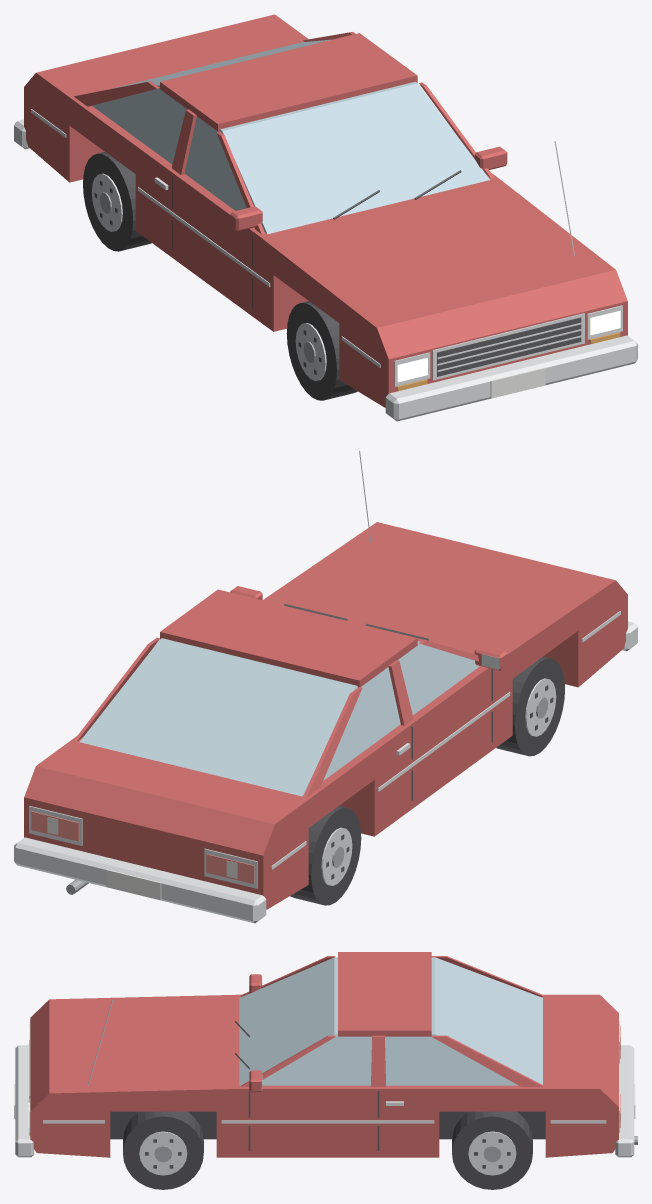
File: car_coupe_r.glb
3 renders of one model, top to bottom at view 1: azimuth 30°, elevation 25°; view 2: azimuth 150°, elevation 25°; view 3: azimuth 270°, elevation 25°, orthographic. The views are drawn at different scales.
Visible parts, largest first — view 1: car_coupe_r_car_r, car_coupe_r_glass, car_coupe_r_chrome, car_coupe_r_rubber, car_coupe_r_dark, car_coupe_r_lamp_glass, car_coupe_r_paint_w; view 2: car_coupe_r_car_r, car_coupe_r_glass, car_coupe_r_chrome, car_coupe_r_rubber, car_coupe_r_neon_r, car_coupe_r_paint_w, car_coupe_r_dark; view 3: car_coupe_r_car_r, car_coupe_r_glass, car_coupe_r_rubber, car_coupe_r_chrome, car_coupe_r_dark, car_coupe_r_steel.
Boxes of the visible parts, left/top/right/bottom form: car_coupe_r_car_r: left=24, top=14, right=627, bottom=407; car_coupe_r_glass: left=92, top=39, right=489, bottom=234; car_coupe_r_chrome: left=14, top=109, right=637, bottom=421; car_coupe_r_rubber: left=83, top=152, right=357, bottom=400; car_coupe_r_dark: left=94, top=170, right=581, bottom=376; car_coupe_r_lamp_glass: left=397, top=310, right=620, bottom=382; car_coupe_r_paint_w: left=490, top=367, right=545, bottom=398; car_coupe_r_car_r: left=24, top=522, right=627, bottom=909; car_coupe_r_glass: left=79, top=638, right=479, bottom=796; car_coupe_r_chrome: left=14, top=450, right=637, bottom=923; car_coupe_r_rubber: left=290, top=656, right=564, bottom=905; car_coupe_r_neon_r: left=31, top=811, right=254, bottom=884; car_coupe_r_paint_w: left=47, top=817, right=237, bottom=900; car_coupe_r_dark: left=284, top=603, right=553, bottom=879; car_coupe_r_car_r: left=30, top=952, right=618, bottom=1157; car_coupe_r_glass: left=239, top=957, right=542, bottom=1085; car_coupe_r_rubber: left=110, top=1111, right=545, bottom=1189; car_coupe_r_chrome: left=15, top=1000, right=634, bottom=1175; car_coupe_r_dark: left=29, top=1021, right=510, bottom=1168; car_coupe_r_steel: left=154, top=1136, right=637, bottom=1162.
Bounding box in the file's own units: 2 × 1.6 × 4.93.
